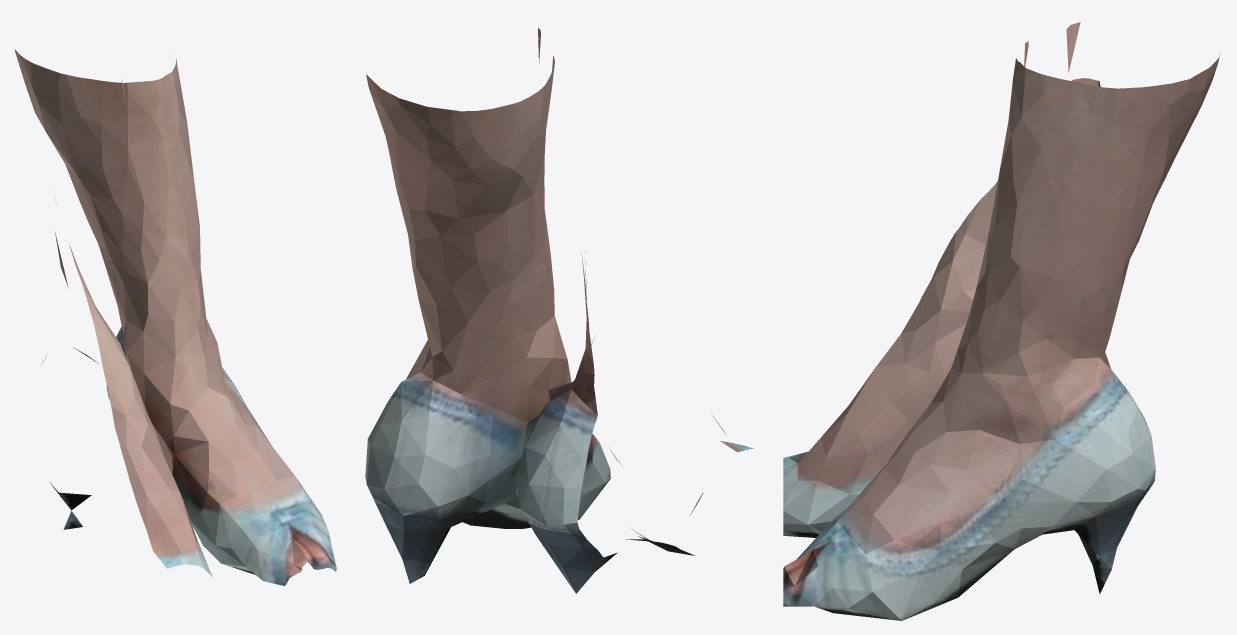
3 renders of one model, left to right at view 1: azimuth 30°, elevation 25°; view 2: azimuth 150°, elevation 25°; view 3: azimuth 270°, elevation 25°, orthographic. The views are drawn at different scales.
Bounding box in the file's own units: 144 × 316 × 245.
Materials: 1 (1 with a texture image).
